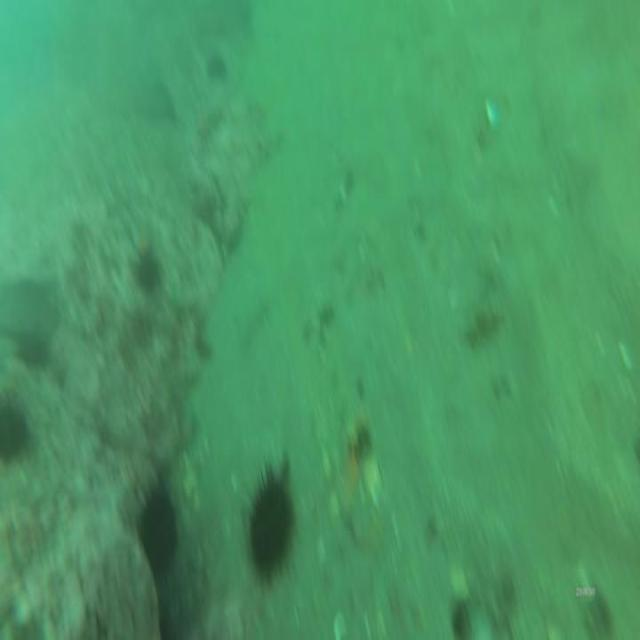echinus: (244, 468, 297, 583), (135, 482, 182, 574), (0, 401, 32, 457), (132, 251, 164, 291)
